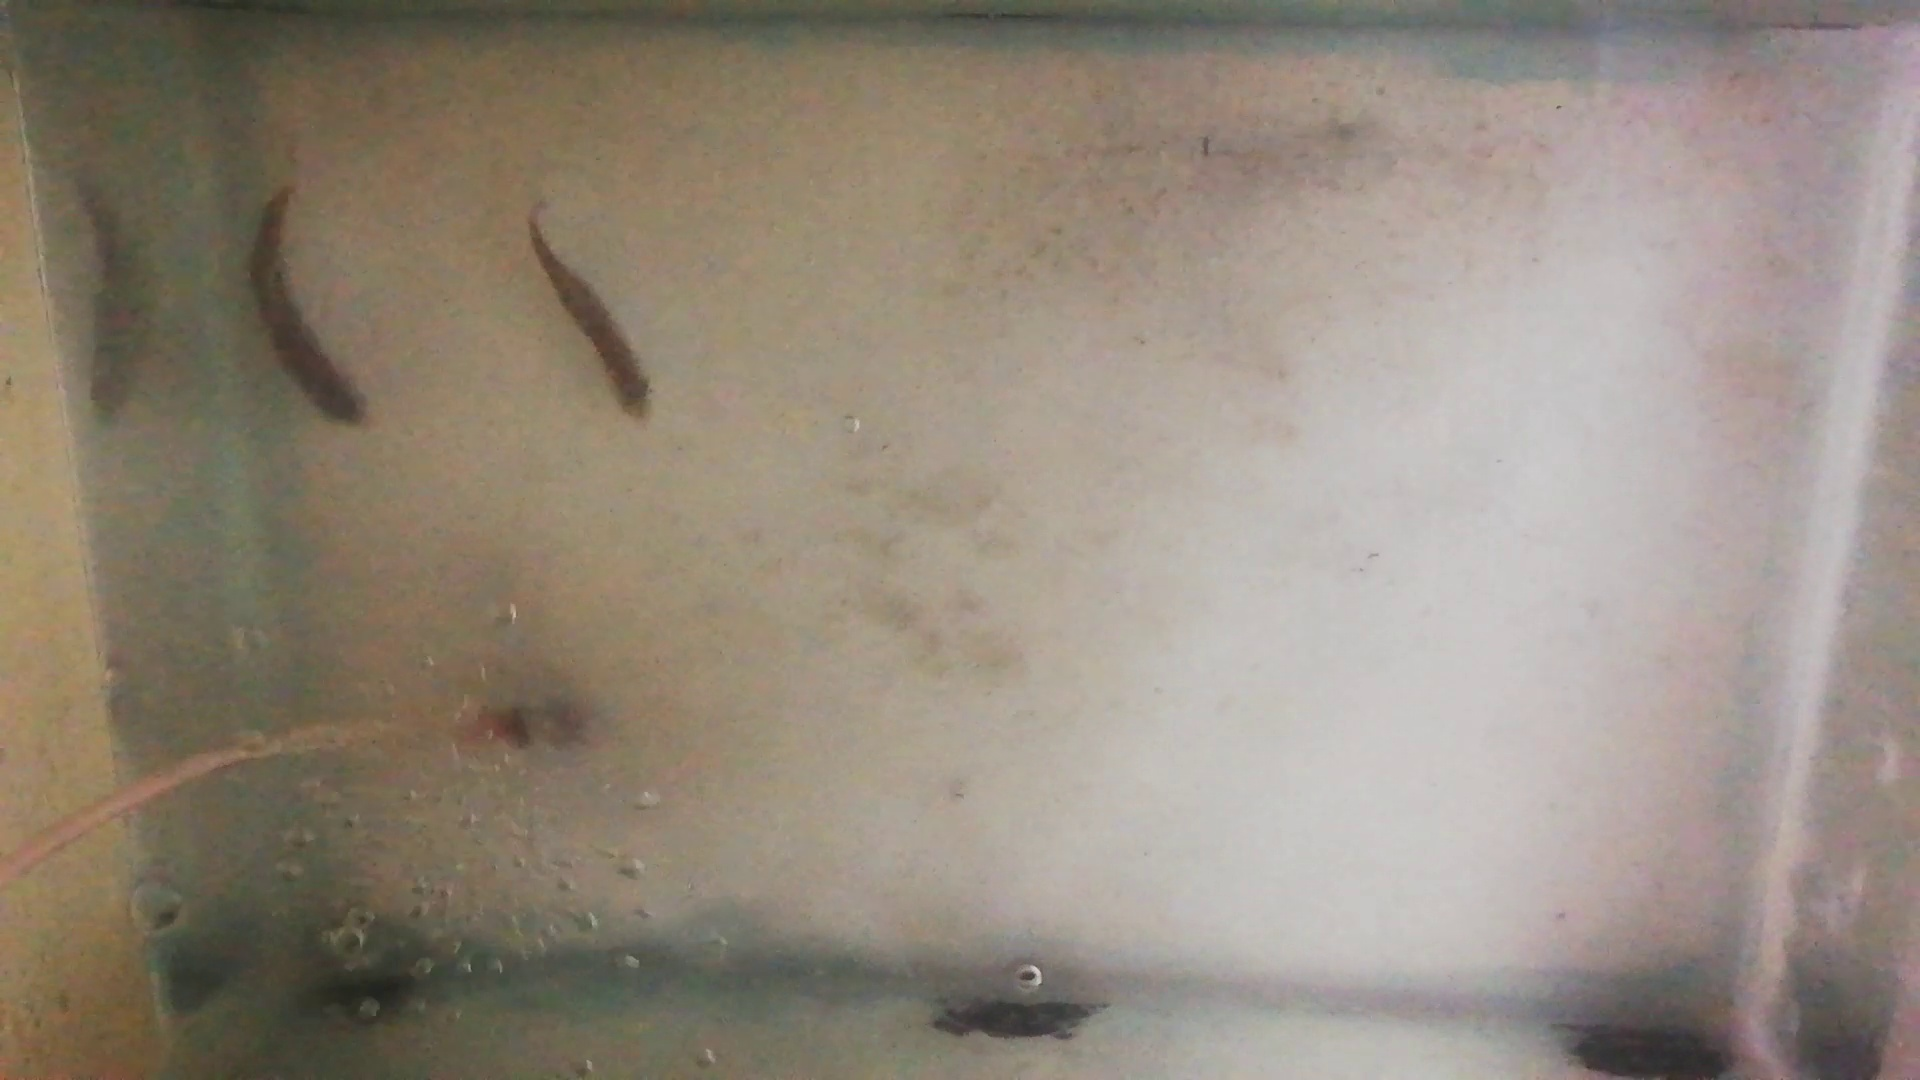fish: (243, 185, 375, 430), (526, 219, 655, 429)
